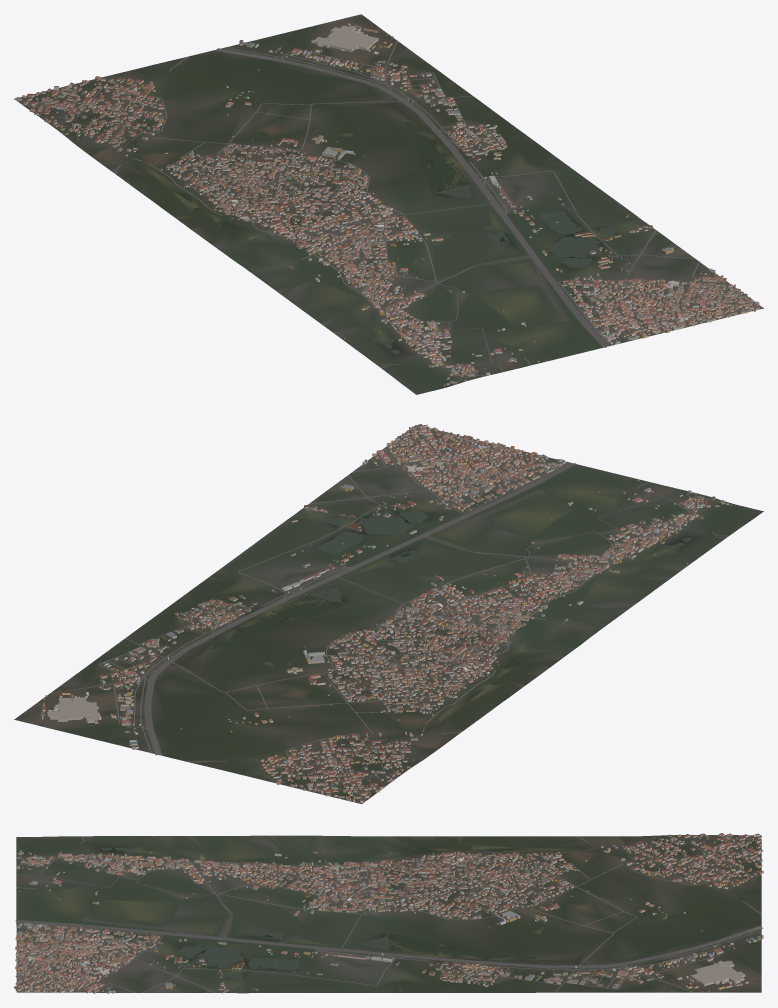
The picture shows the model from 3 angles, top to bottom: view 1: azimuth 30°, elevation 25°; view 2: azimuth 150°, elevation 25°; view 3: azimuth 270°, elevation 25°; orthographic projection. The views are drawn at different scales.
Visible parts, largest first — view 1: ground, buildings, roads, water; view 2: ground, buildings, roads, water; view 3: ground, buildings, roads, water.
Boxes of the visible parts, x1,y1,x2,y2 form: ground: [14, 14, 763, 394]; buildings: [16, 23, 760, 385]; roads: [14, 40, 763, 381]; water: [181, 122, 643, 354]; ground: [14, 425, 763, 803]; buildings: [40, 424, 731, 802]; roads: [50, 425, 728, 803]; water: [212, 510, 692, 696]; ground: [16, 835, 761, 993]; buildings: [14, 833, 763, 993]; roads: [15, 835, 763, 992]; water: [101, 845, 535, 992].
Bounding box in the file's own units: 1412 × 23.25 × 2822.
